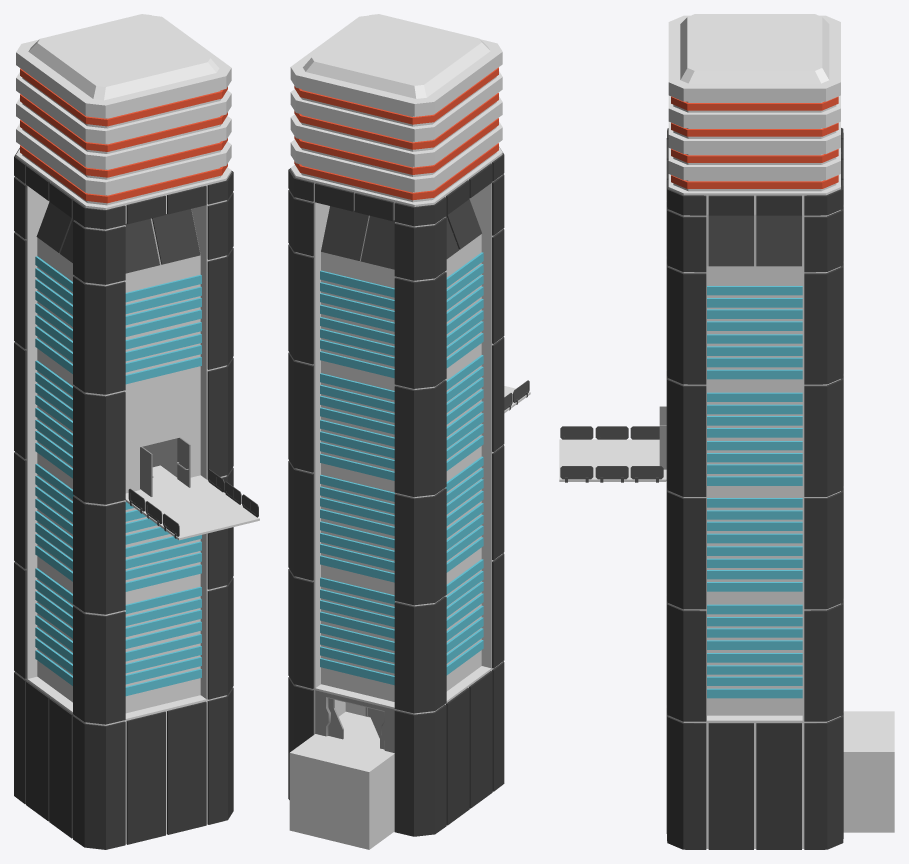
The model's file is BuildingInside.fbx.
3 views of the same model, side by side, from view 1: azimuth 30°, elevation 25°; view 2: azimuth 150°, elevation 25°; view 3: azimuth 270°, elevation 25° (orthographic). The views are drawn at different scales.
Parts seen in each view (by area): view 1: pasted__Barrera3; view 2: pasted__Barrera3; view 3: pasted__Barrera3.
Boxes of the visible parts, <box> form: pasted__Barrera3: <box>14,14,259,849</box>; pasted__Barrera3: <box>288,14,530,849</box>; pasted__Barrera3: <box>559,14,894,849</box>.
Bounding box in the file's own units: 12896 × 61926 × 24433.
